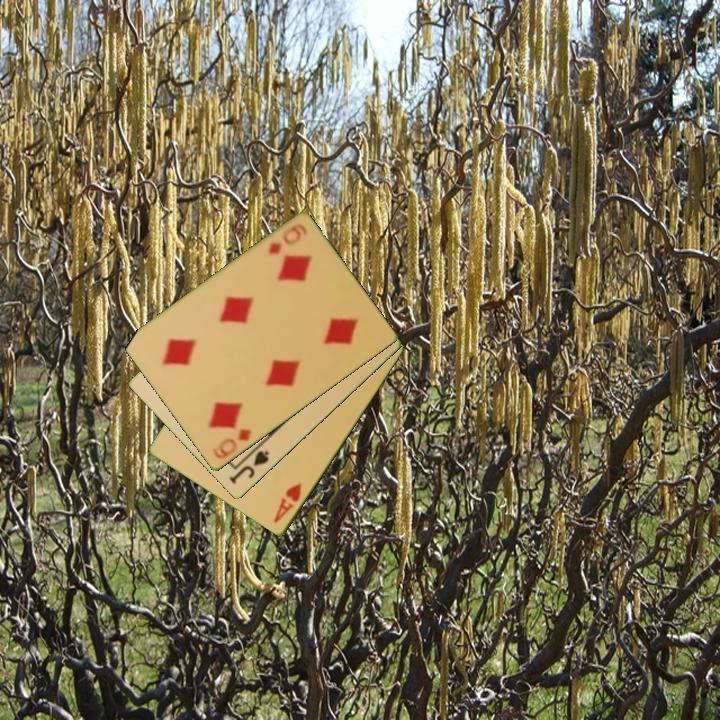6d: (209, 425, 254, 462), (265, 224, 304, 258)
Ah: (270, 480, 304, 526)
Js: (225, 447, 272, 487)
